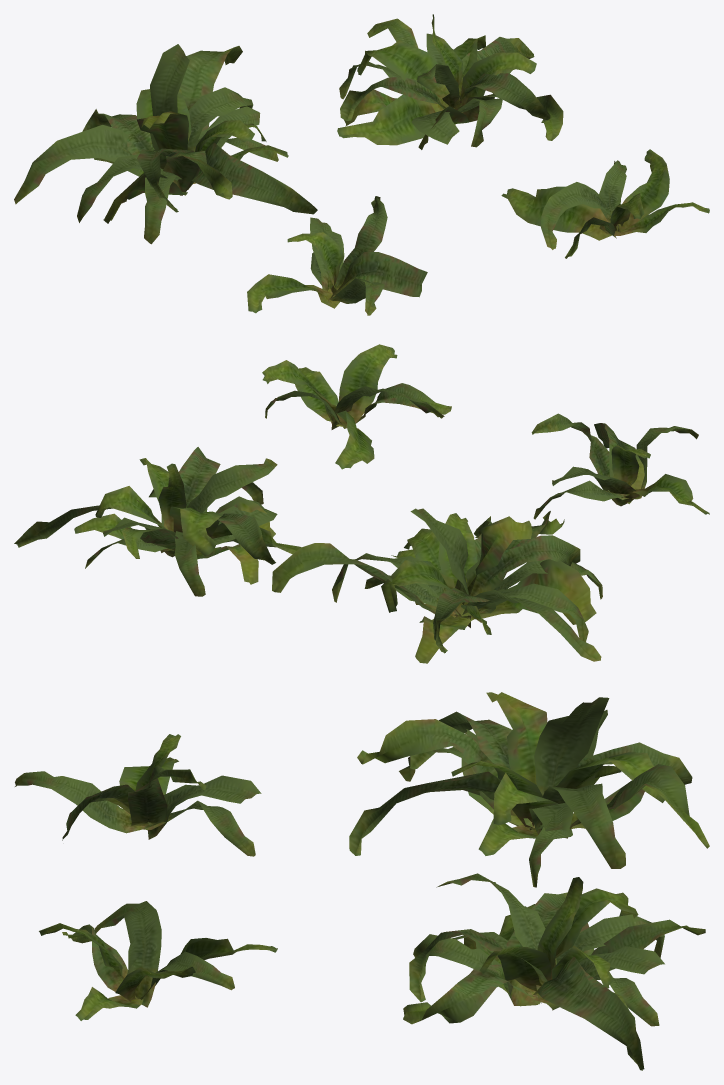
Rendered from th_farn.glb.
The picture shows the model from 3 angles, top to bottom: view 1: azimuth 30°, elevation 25°; view 2: azimuth 150°, elevation 25°; view 3: azimuth 270°, elevation 25°; orthographic projection. The views are drawn at different scales.
Parts seen in each view (by area): view 1: fern_02_b, fern_02_c, fern_02_d, fern_02_a; view 2: fern_02_b, fern_02_c, fern_02_d, fern_02_a; view 3: fern_02_b, fern_02_c, fern_02_a, fern_02_d.
Boxes of the visible parts, bbox=[...] form: fern_02_b: bbox=[14, 44, 317, 244]; fern_02_c: bbox=[337, 14, 563, 149]; fern_02_d: bbox=[501, 149, 709, 258]; fern_02_a: bbox=[247, 196, 427, 315]; fern_02_b: bbox=[272, 508, 602, 663]; fern_02_c: bbox=[14, 447, 301, 596]; fern_02_d: bbox=[262, 344, 451, 469]; fern_02_a: bbox=[531, 413, 709, 519]; fern_02_b: bbox=[349, 692, 709, 887]; fern_02_c: bbox=[403, 873, 705, 1070]; fern_02_a: bbox=[15, 734, 261, 856]; fern_02_d: bbox=[39, 901, 277, 1020].
Bounding box in the file's own units: 1.97 × 0.4277 × 1.72.
1 material, 1 textured.
